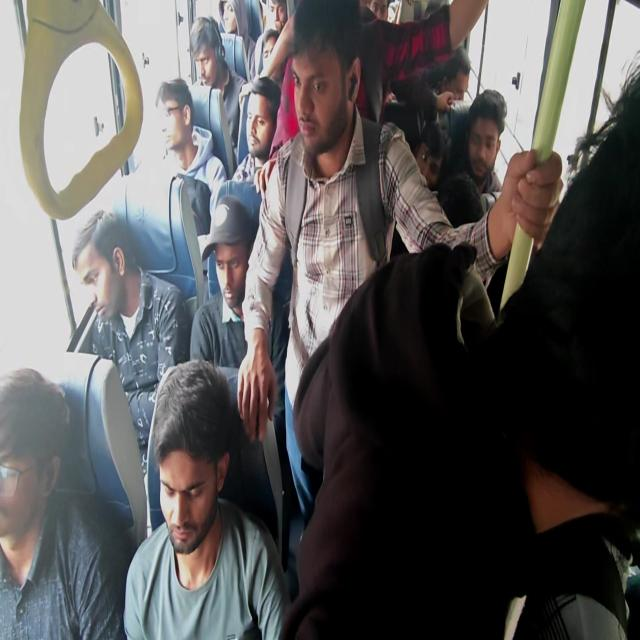person: (263, 1, 547, 542), (1, 362, 134, 638), (150, 358, 238, 476), (157, 78, 227, 218), (0, 368, 69, 467), (233, 75, 282, 187), (290, 0, 358, 80), (75, 209, 133, 276), (408, 115, 444, 191), (432, 45, 472, 105), (468, 88, 509, 140), (460, 165, 502, 212), (189, 15, 223, 62), (156, 77, 192, 114), (245, 0, 266, 41), (267, 0, 288, 32), (362, 0, 389, 21), (423, 0, 447, 19)
